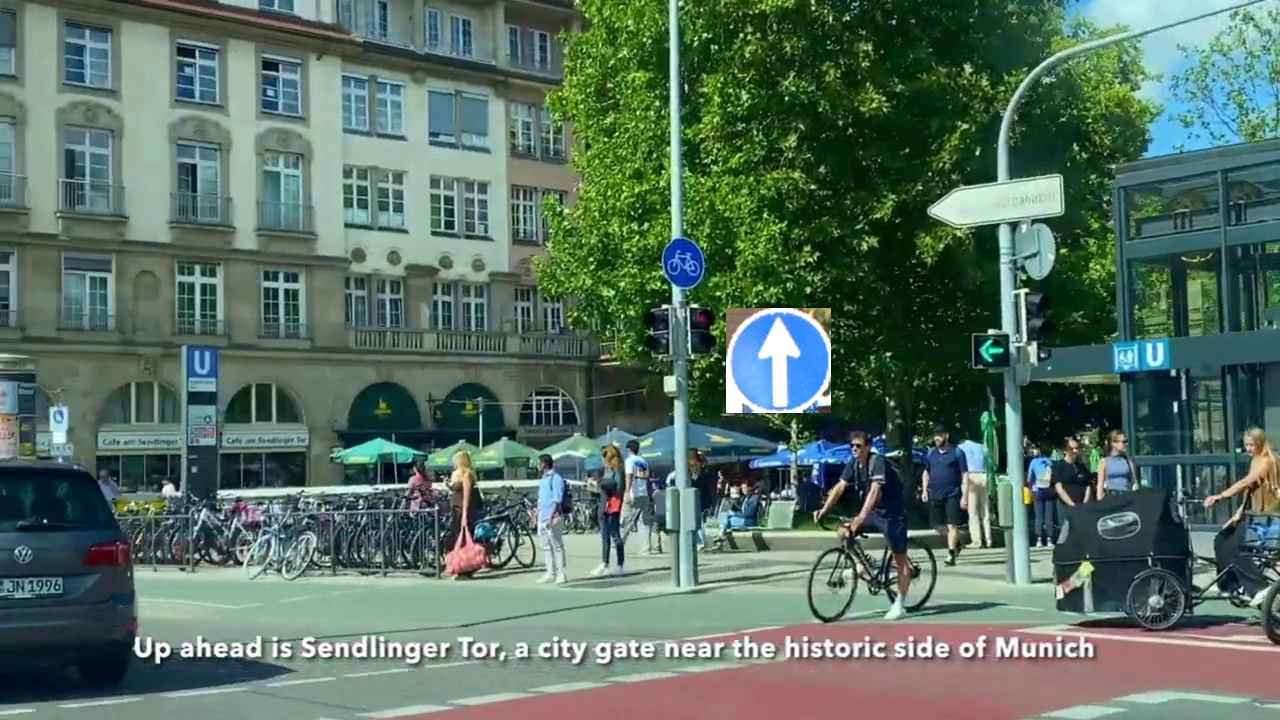Ahead only: (726, 308, 831, 413)
